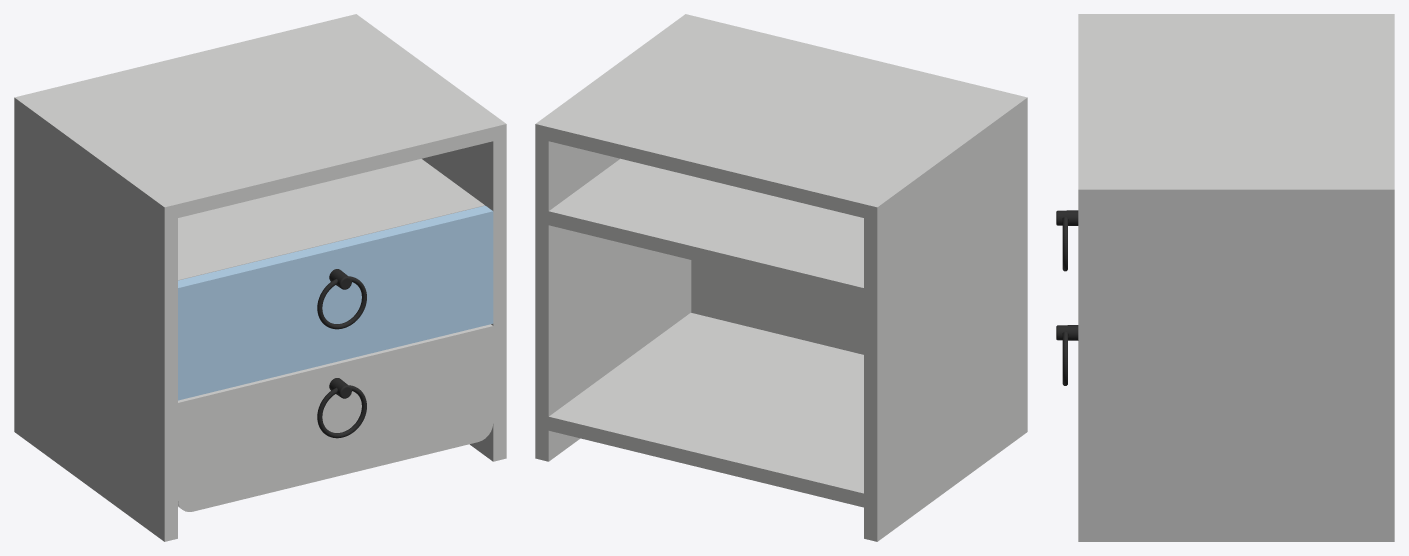
File: nightstand_lara_blue.glb
3 renders of one model, left to right at view 1: azimuth 30°, elevation 25°; view 2: azimuth 150°, elevation 25°; view 3: azimuth 270°, elevation 25°, orthographic. The views are drawn at different scales.
Visible parts, largest first — view 1: 3DGeom-1, 3DGeom-2, 3DGeom-3; view 2: 3DGeom-1; view 3: 3DGeom-1, 3DGeom-3.
Part boxes in pixels (x1,y1,x2,y2): 3DGeom-1: (14,14,506,541); 3DGeom-2: (178,205,493,400); 3DGeom-3: (317,269,366,438); 3DGeom-1: (535,14,1027,541); 3DGeom-1: (1078,14,1394,541); 3DGeom-3: (1056,210,1078,385).
Bounding box in the file's own units: 0.46 × 0.43 × 0.3746.
